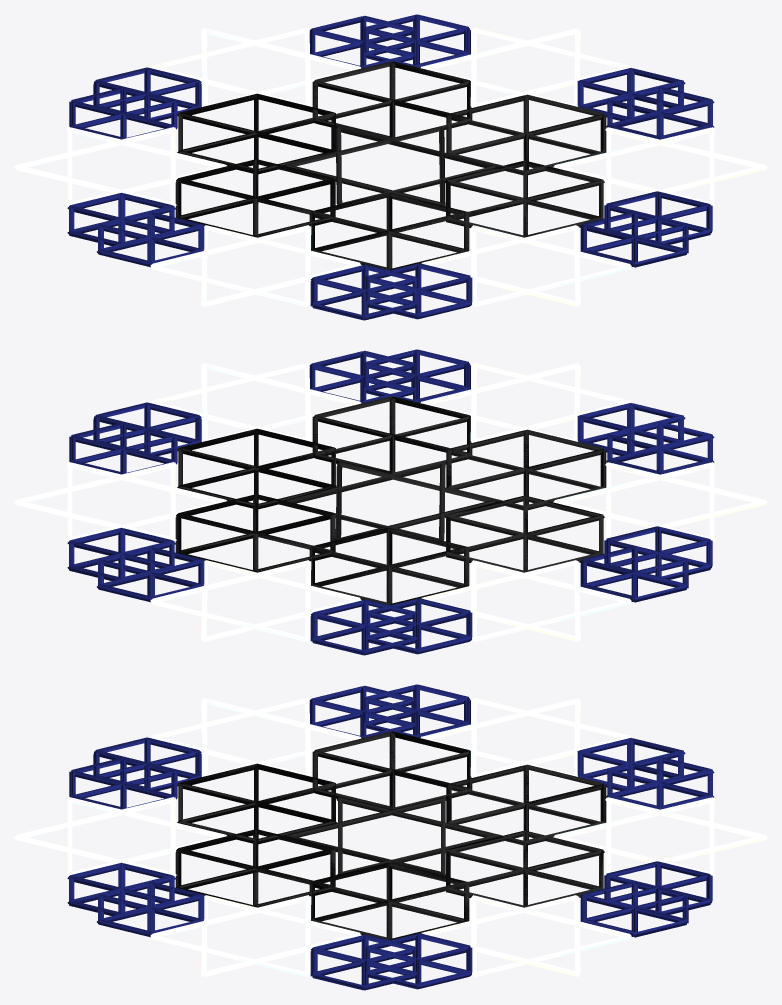
File: mandalaFran.glb
3 views of the same model, one above another, from view 1: azimuth 30°, elevation 25°; view 2: azimuth 150°, elevation 25°; view 3: azimuth 270°, elevation 25° (orthographic).
Visible parts, largest first — view 1: Atom_Array_3_0, Atom_Array_3_2, Cloner_1_3, Cloner_2_2_5, Atom_Array_3_1_2, Cloner_0, Cloner_2_1_3, Cloner_2_4, Cloner_2_0, Atom_Array_3_1, Cloner_1, Cloner_2_1 (+4 smaller); view 2: Atom_Array_3_0, Atom_Array_3_1, Cloner_2_2_5, Cloner_2_1_3, Cloner_2_4, Cloner_1_3, Cloner_0, Atom_Array_3_2_3, Cloner_2_0, Atom_Array_3_2, Cloner_2, Cloner_1 (+4 smaller); view 3: Atom_Array_3_1, Atom_Array_3_0, Cloner_2_2_5, Cloner_2_1_3, Cloner_2_4, Atom_Array_3_2, Atom_Array_3_2_3, Cloner_1_3, Cloner_0, Atom_Array_3_1_2, Cloner_2_0, Cloner_1 (+4 smaller).
Part boxes in pixels (left/top/right/bottom): Atom_Array_3_0: left=67, top=14, right=712, bottom=320; Atom_Array_3_2: left=68, top=14, right=712, bottom=319; Cloner_1_3: left=67, top=28, right=767, bottom=306; Cloner_2_2_5: left=177, top=61, right=603, bottom=270; Atom_Array_3_1_2: left=73, top=14, right=714, bottom=319; Cloner_0: left=32, top=28, right=714, bottom=306; Cloner_2_1_3: left=175, top=61, right=606, bottom=269; Cloner_2_4: left=14, top=28, right=714, bottom=306; Cloner_2_0: left=176, top=61, right=606, bottom=269; Atom_Array_3_1: left=69, top=15, right=711, bottom=320; Cloner_1: left=67, top=28, right=734, bottom=306; Cloner_2_1: left=178, top=61, right=606, bottom=270; Atom_Array_3_0: left=68, top=349, right=714, bottom=654; Atom_Array_3_1: left=69, top=349, right=710, bottom=655; Cloner_2_2_5: left=176, top=397, right=603, bottom=604; Cloner_2_1_3: left=175, top=396, right=606, bottom=604; Cloner_2_4: left=14, top=363, right=714, bottom=641; Cloner_1_3: left=67, top=363, right=767, bottom=641; Cloner_0: left=46, top=363, right=755, bottom=641; Atom_Array_3_2_3: left=67, top=350, right=712, bottom=654; Cloner_2_0: left=175, top=396, right=606, bottom=604; Atom_Array_3_2: left=68, top=350, right=712, bottom=654; Cloner_2: left=17, top=363, right=714, bottom=641; Cloner_1: left=34, top=363, right=765, bottom=641; Atom_Array_3_1: left=73, top=684, right=714, bottom=989; Atom_Array_3_0: left=68, top=685, right=712, bottom=990; Cloner_2_2_5: left=176, top=731, right=603, bottom=939; Cloner_2_1_3: left=175, top=732, right=605, bottom=939; Cloner_2_4: left=14, top=698, right=765, bottom=976; Atom_Array_3_2: left=67, top=684, right=712, bottom=989; Atom_Array_3_2_3: left=68, top=684, right=712, bottom=989; Cloner_1_3: left=67, top=698, right=767, bottom=976; Cloner_0: left=32, top=698, right=718, bottom=975; Atom_Array_3_1_2: left=69, top=684, right=712, bottom=990; Cloner_2_0: left=180, top=731, right=603, bottom=940; Cloner_1: left=67, top=698, right=764, bottom=976.
Size of the model in its own units: 4.01 by 0.0352 by 4.23.
3 materials, 2 textured.
